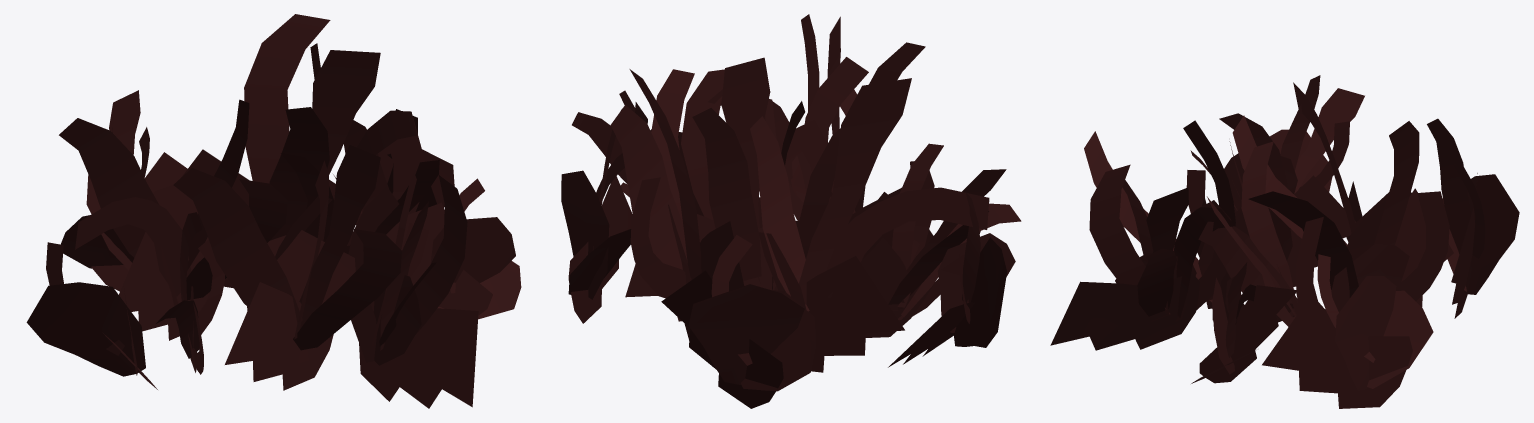
Rendered from SM_ocean_scatterPlant_03_C.fbx.
3 renders of one model, left to right at view 1: azimuth 30°, elevation 25°; view 2: azimuth 150°, elevation 25°; view 3: azimuth 270°, elevation 25°, orthographic. The views are drawn at different scales.
Parts seen in each view (by area): view 1: SM_ocean_scatterPlant_03_C_LOD0; view 2: SM_ocean_scatterPlant_03_C_LOD0; view 3: SM_ocean_scatterPlant_03_C_LOD0.
Part boxes in pixels (x1,y1,x2,y2): SM_ocean_scatterPlant_03_C_LOD0: (26, 14, 521, 408); SM_ocean_scatterPlant_03_C_LOD0: (561, 14, 1021, 408); SM_ocean_scatterPlant_03_C_LOD0: (1050, 75, 1519, 408).
Size of what is drawn, in the model's own units: 19.31 by 18.18 by 11.65.
